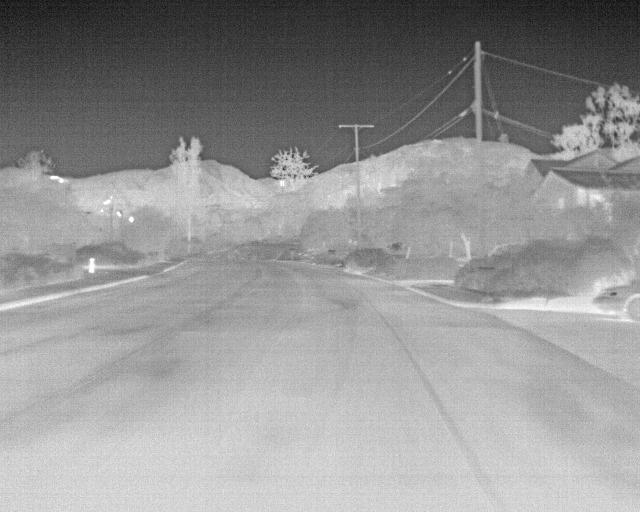car: (590, 284, 639, 324), (72, 241, 140, 267)
